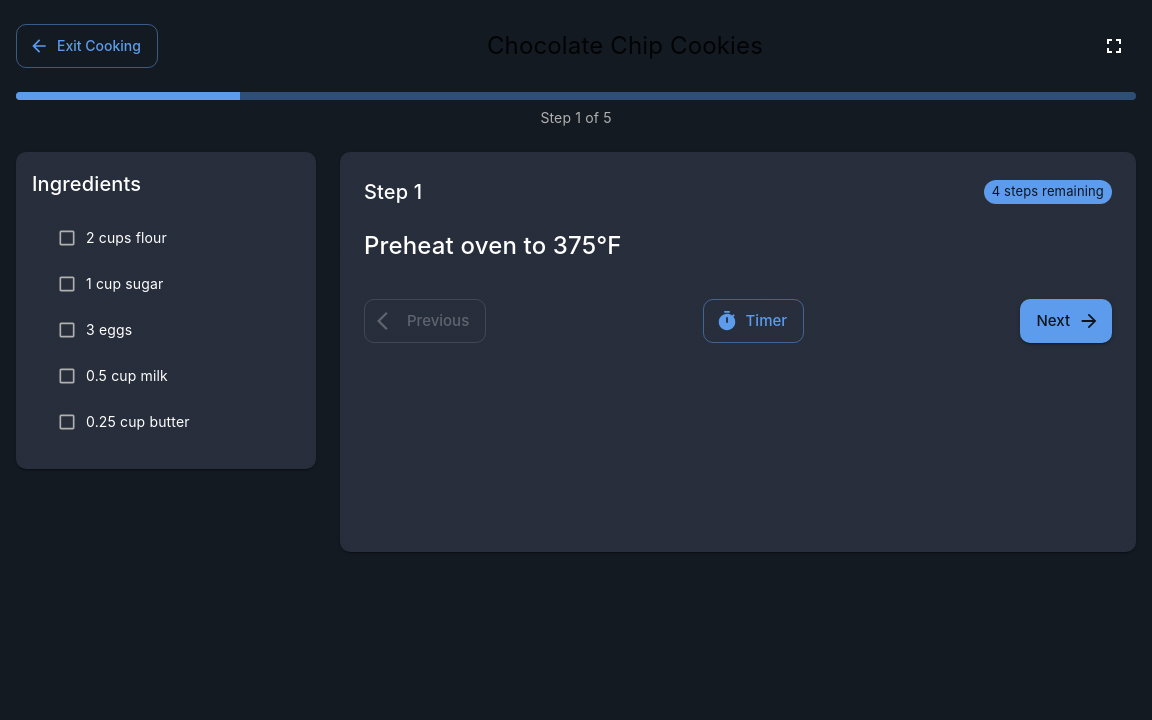
Test: CookingMode Component › Step Navigation › should disable next button on last step
Check: the heading "Step 1" is shown, box [364,176,422,208]
Click the button "Next". click: coordinates (1066, 321)
box: [1020,299,1112,343]
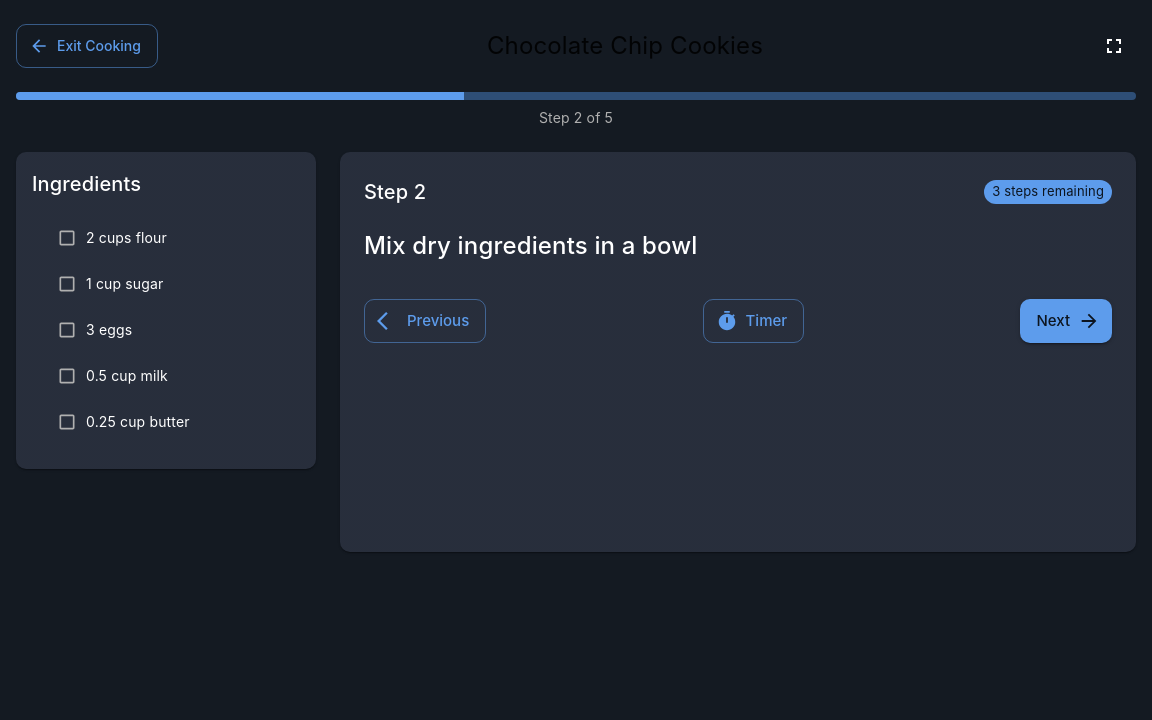
Click the button "Next". click: coordinates (1066, 321)
box: [1020,299,1112,343]
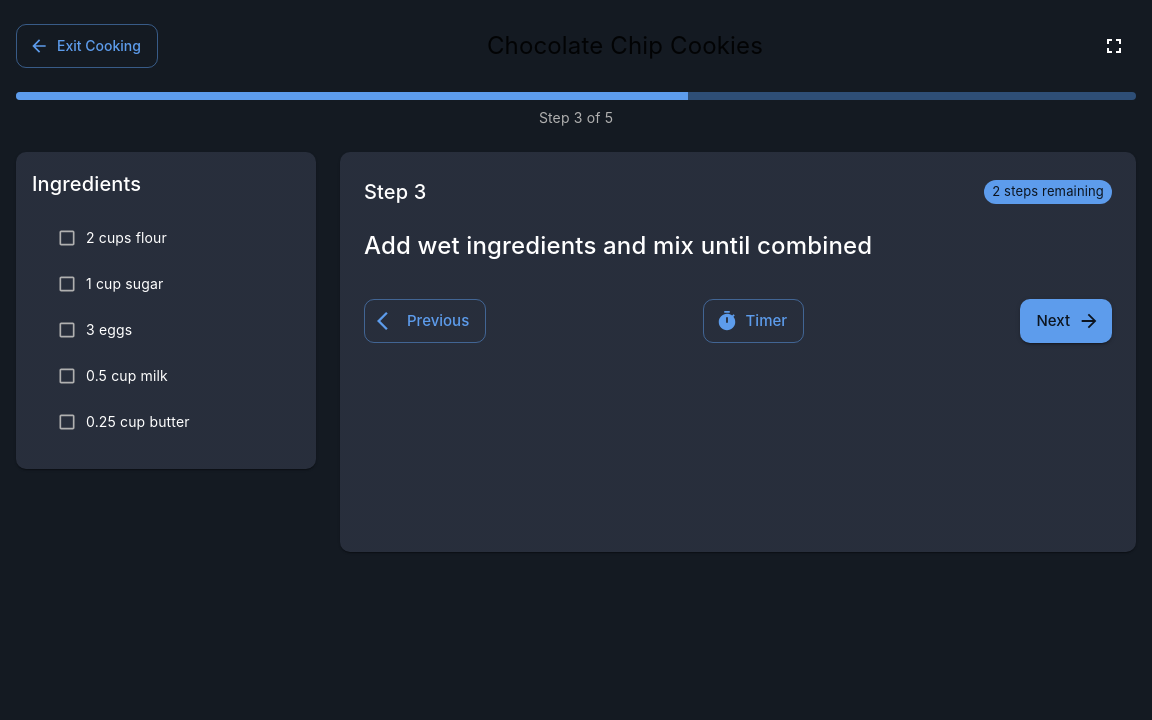
Click the button "Next". click: coordinates (1066, 321)
box: [1020,299,1112,343]
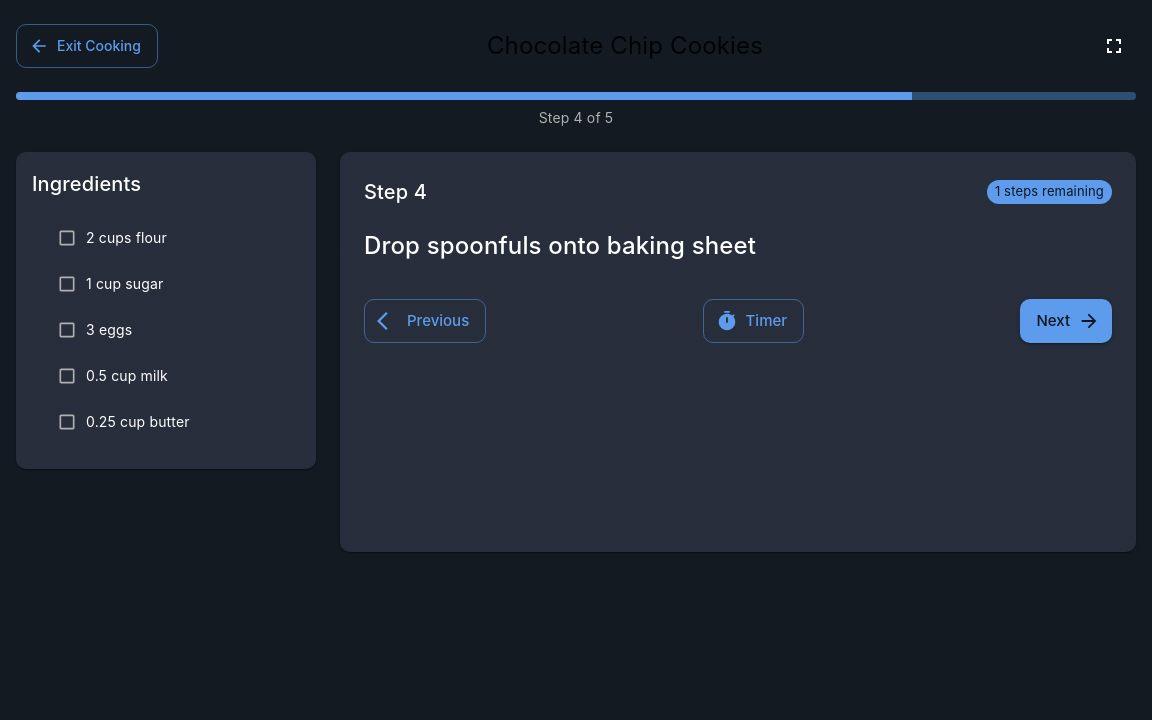
Click the button "Next". click: coordinates (1066, 321)
box: [1020,299,1112,343]
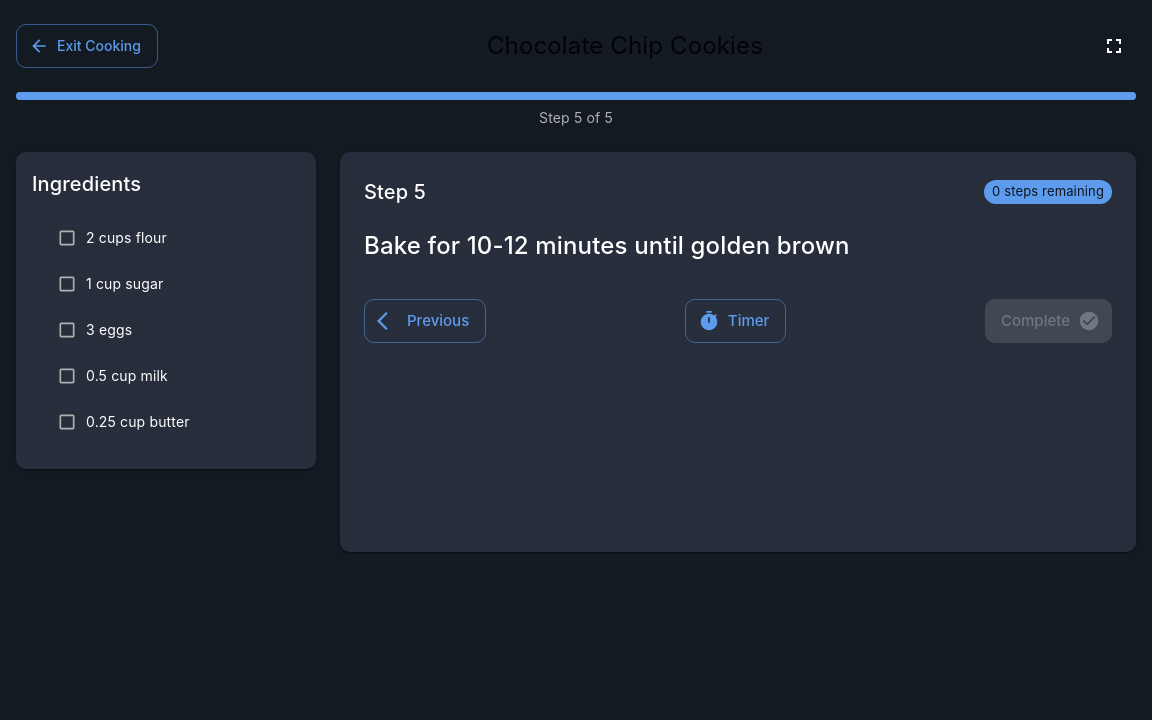
Check: the button named "next" is disabled, box [985,299,1112,343]
